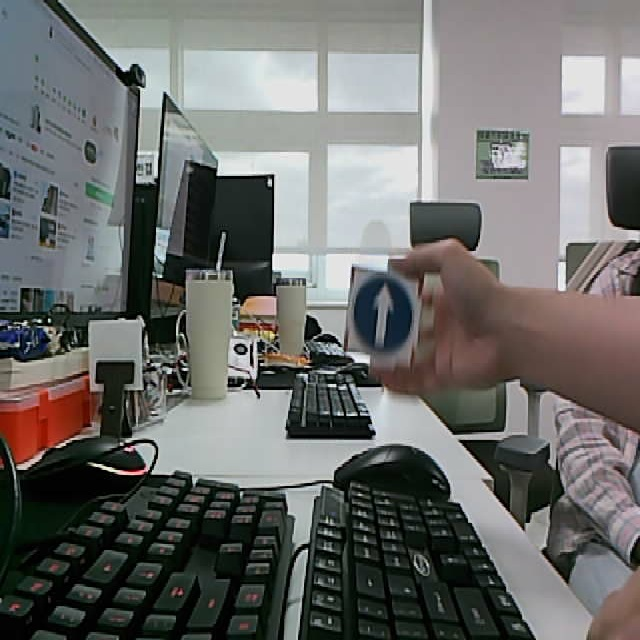straight: (344, 266, 423, 371)
